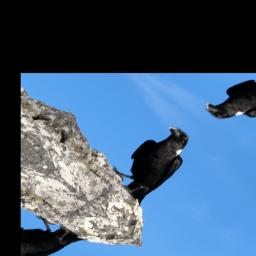Crow: (95, 121, 217, 207)
